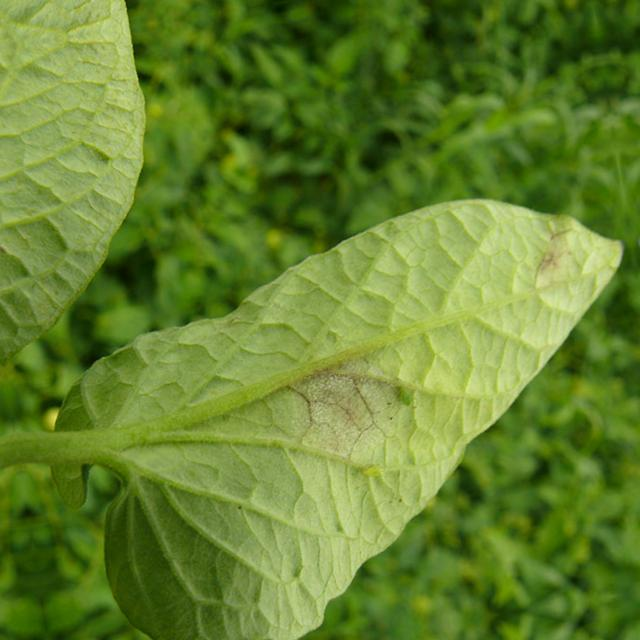Tomato leaf late blight: (8, 162, 640, 640)
